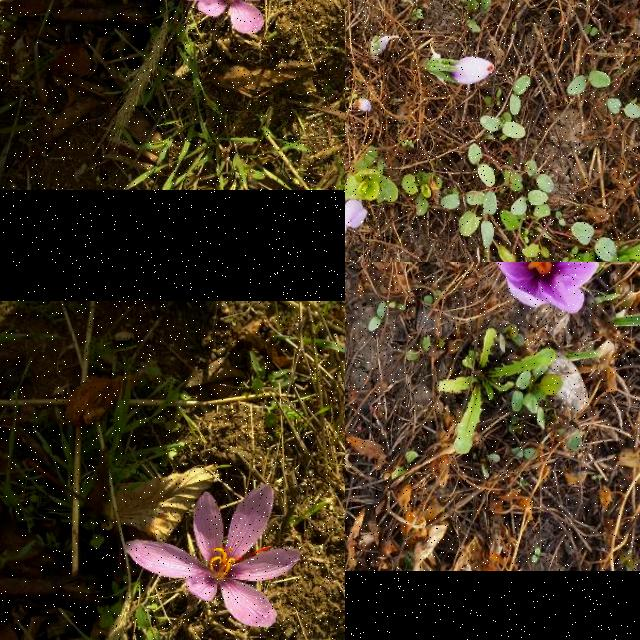flower: (124, 485, 302, 629), (470, 262, 599, 313), (155, 0, 287, 34), (452, 58, 496, 86), (345, 199, 368, 234)
